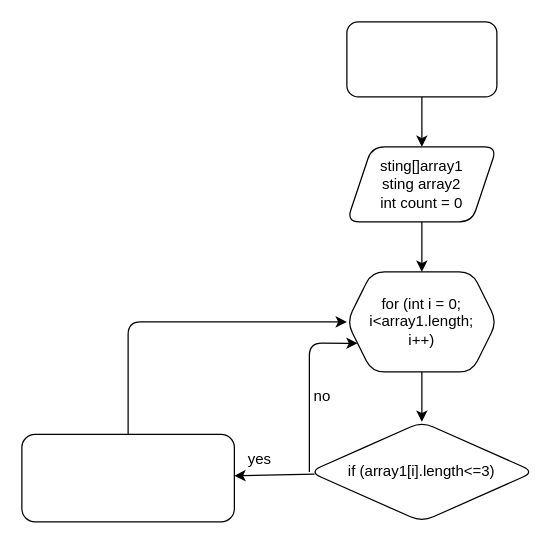
The diagram is 556 pixels wide and 544 high, and some of its shapes have lost their labels. The centre of each missing label's shape, as x and y in pixels:
"array2[count]=array1[i] cout++;" goes at point (127, 477).
"SecondArrayWithif" goes at point (421, 59).
